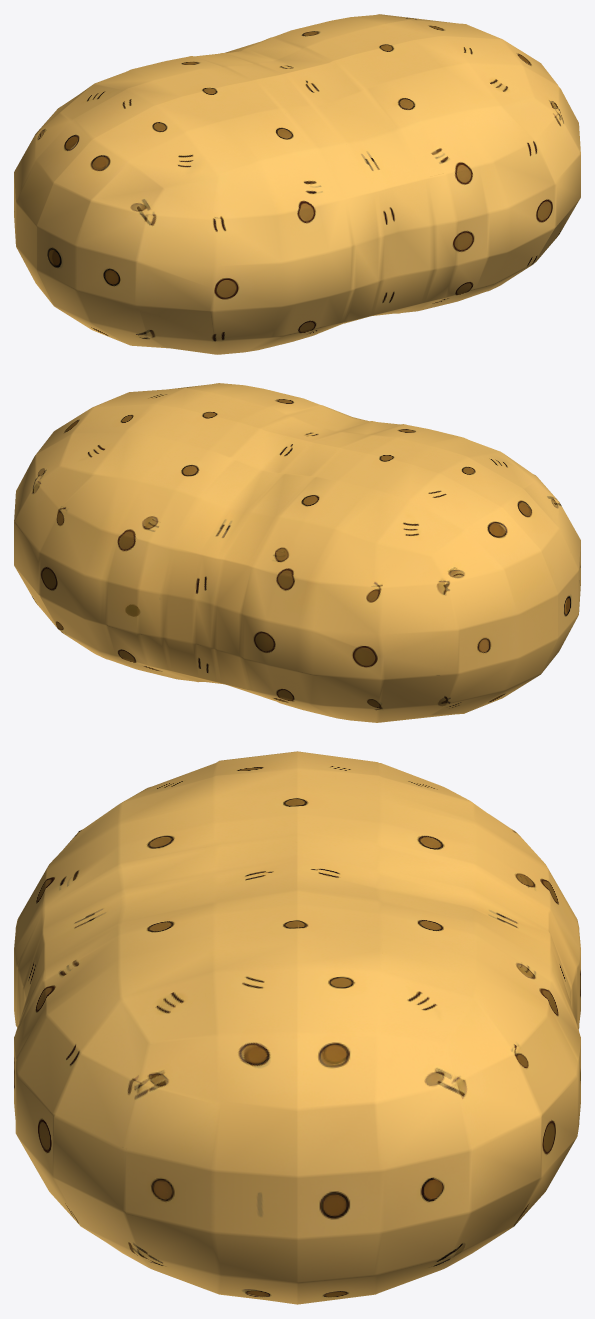
File: potato.fbx
3 renders of one model, top to bottom at view 1: azimuth 30°, elevation 25°; view 2: azimuth 150°, elevation 25°; view 3: azimuth 270°, elevation 25°, orthographic. The views are drawn at different scales.
Visible parts, largest first — view 1: Mesh_0.016; view 2: Mesh_0.016; view 3: Mesh_0.016.
Part boxes in pixels (x1,y1,x2,y2): Mesh_0.016: (14,14,580,354); Mesh_0.016: (14,383,580,722); Mesh_0.016: (14,751,580,1304).
Bounding box in the file's own units: 37.96 × 16.2 × 25.28.
1 material, 1 textured.
